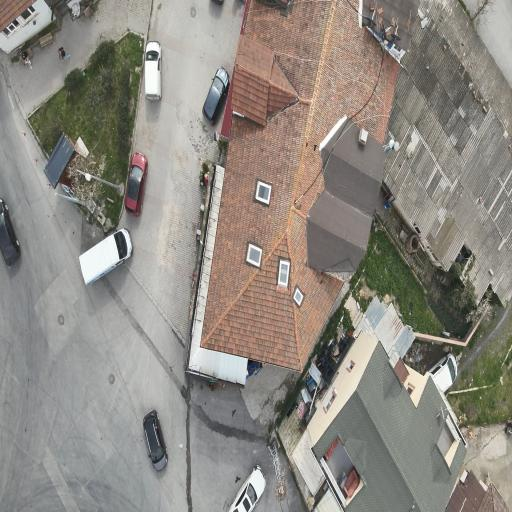car: (79, 229, 133, 284), (228, 466, 264, 511), (202, 67, 228, 125), (142, 410, 166, 471), (124, 153, 147, 216), (0, 199, 19, 265), (428, 354, 456, 392), (144, 41, 160, 100), (211, 0, 222, 4)
person: (21, 52, 30, 69), (58, 47, 64, 59)
